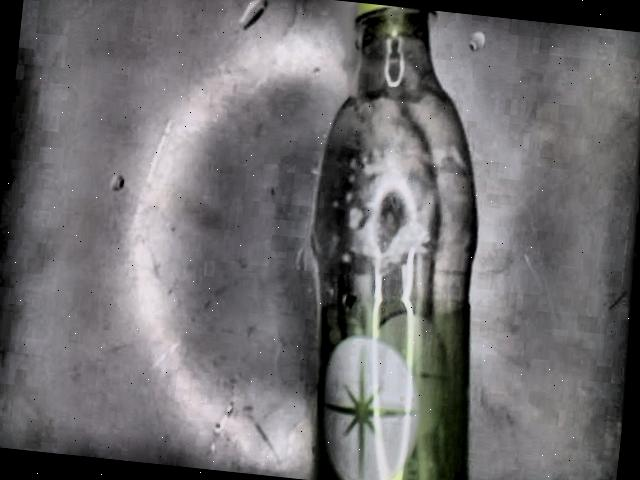Bottles: (309, 2, 478, 480)
